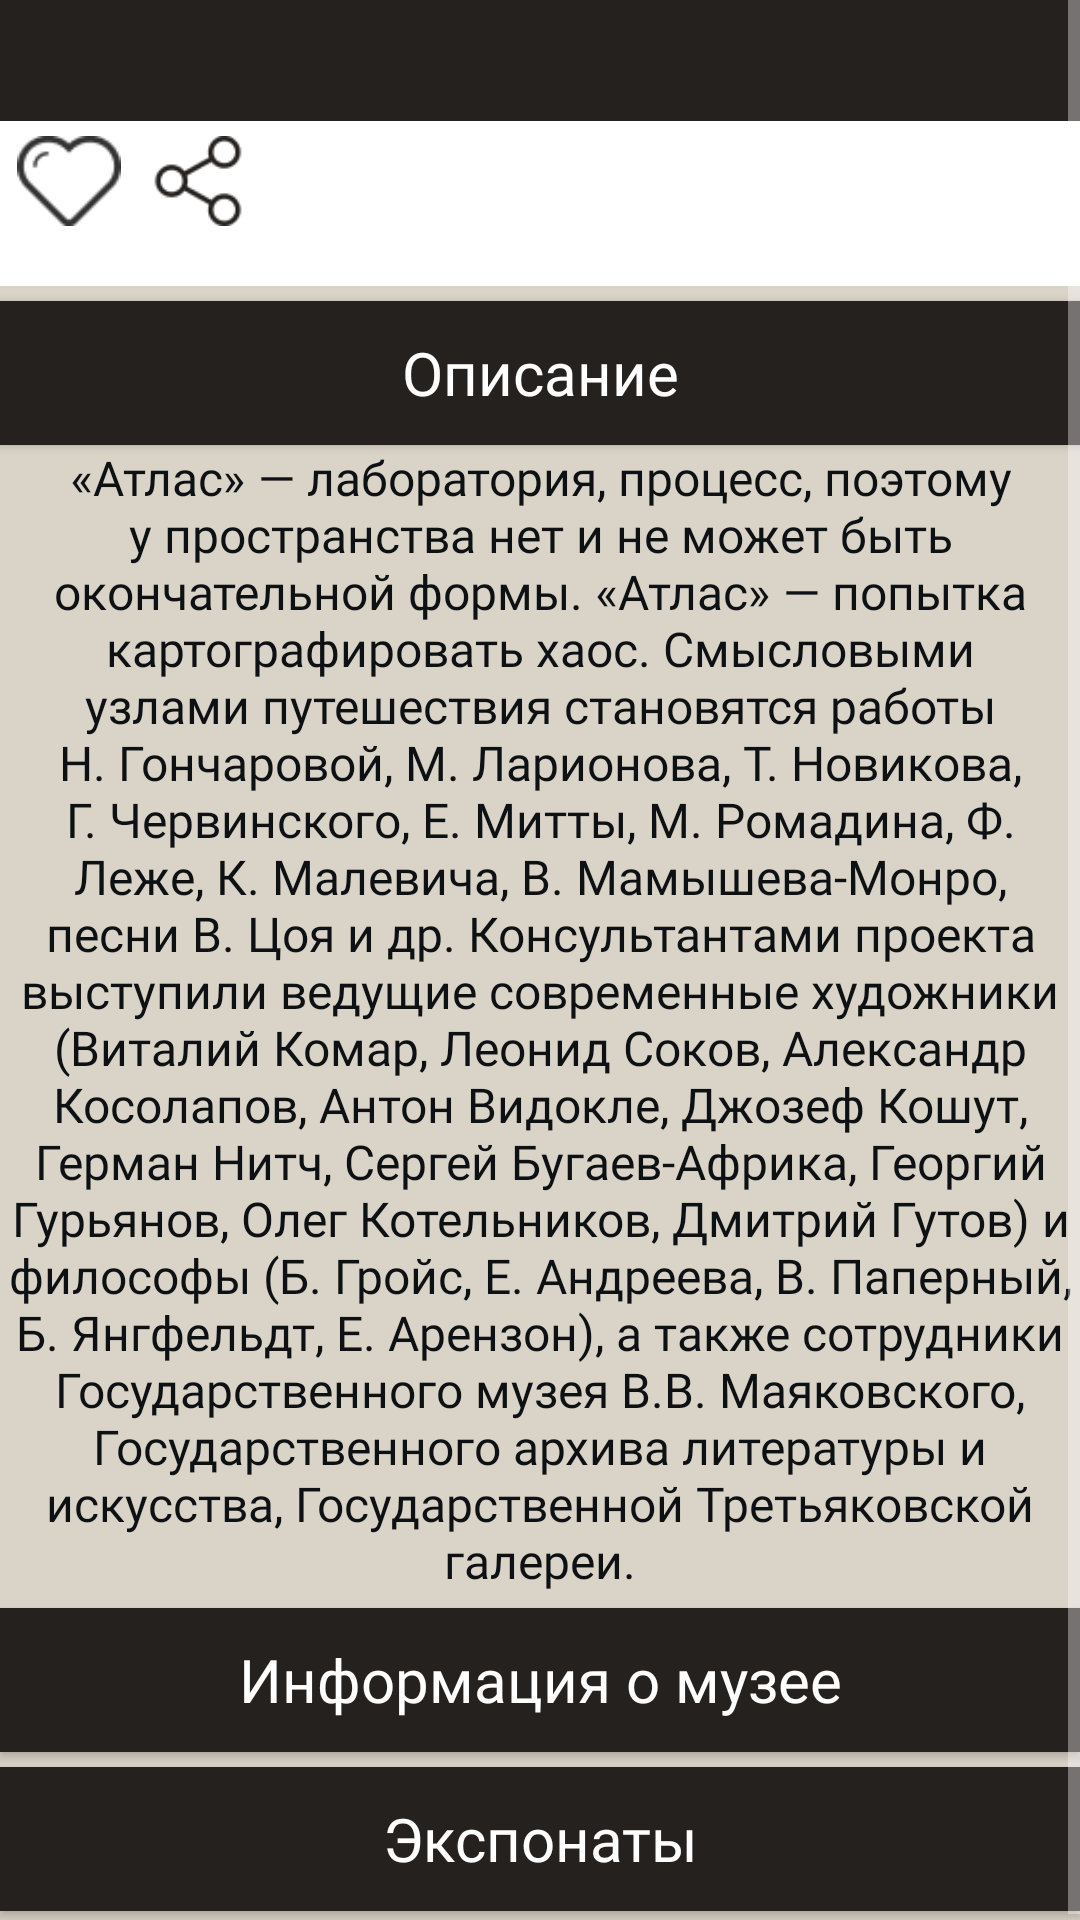

Where to tap for icons on this 1080 × 1920 app screen, as point (x, y):
like: point (69, 181)
share: point (198, 181)
